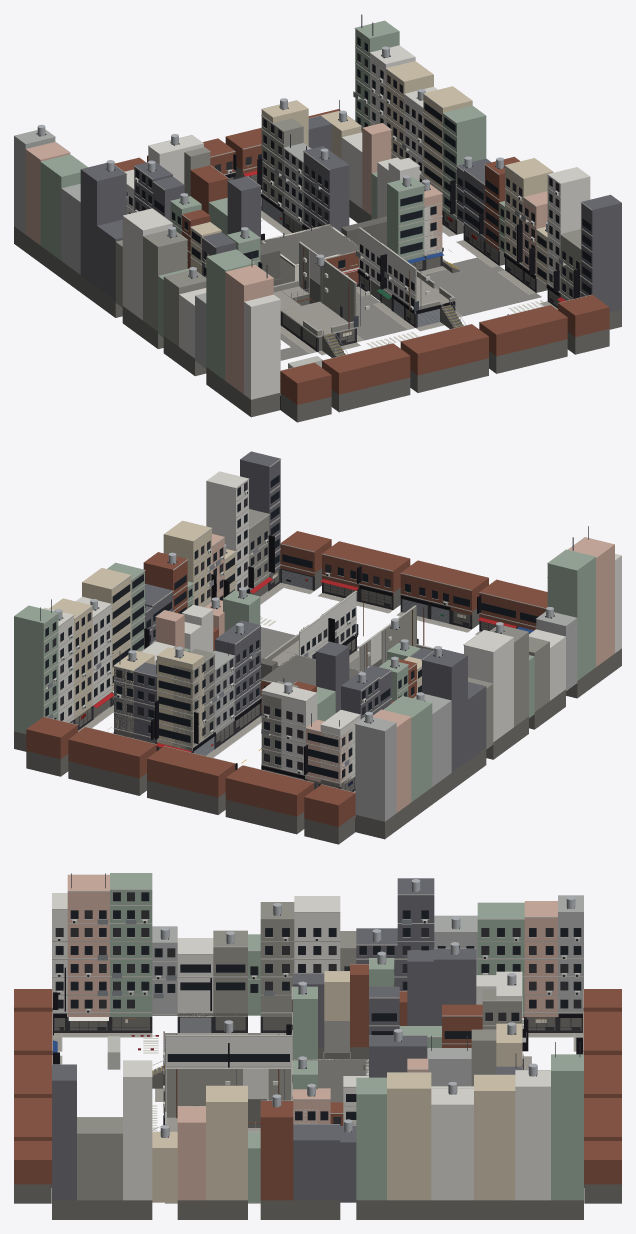
Rendered from kb-shell.glb.
3 views of the same model, one above another, from view 1: azimuth 30°, elevation 25°; view 2: azimuth 150°, elevation 25°; view 3: azimuth 270°, elevation 25° (orthographic). The views are drawn at different scales.
Parts seen in each view (by area): view 1: gj; view 2: gj; view 3: gj, kb.
Boxes of the visible parts, box(x1,y1,x2,y2) form: gj: box(14, 14, 621, 422); gj: box(14, 451, 621, 844); gj: box(14, 873, 621, 1219); kb: box(107, 1000, 292, 1069).
Bounding box in the file's own units: 75.4 × 28.39 × 95.4.
